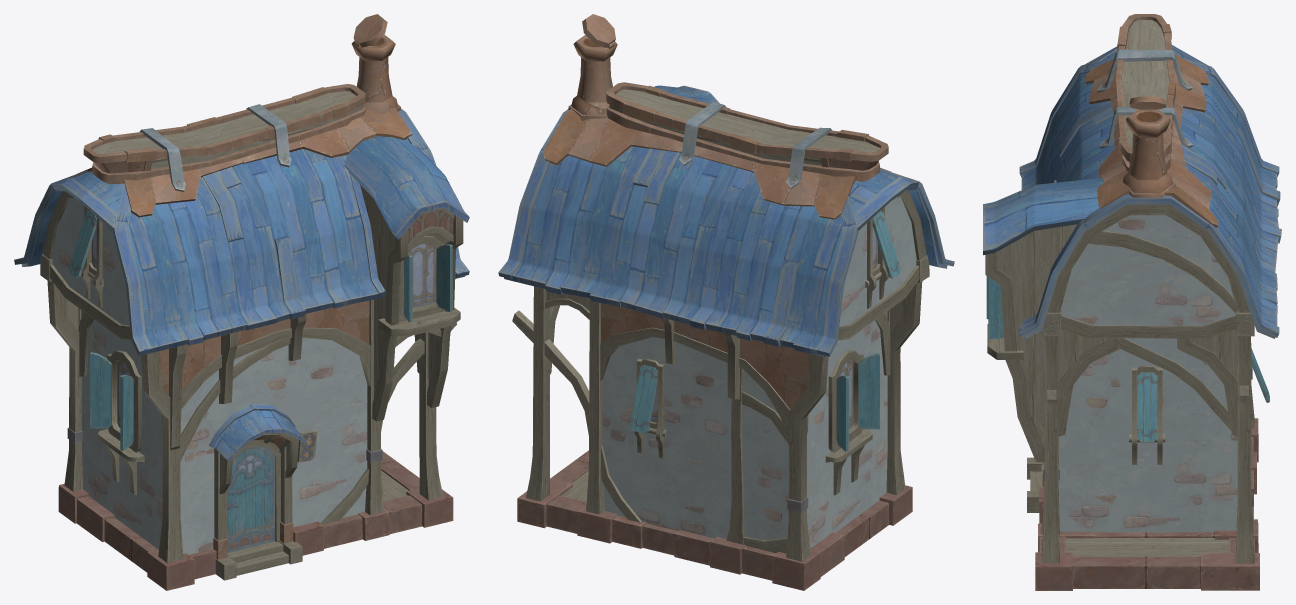
Rendered from Homeworld_Exterior_Fd_Build_YwMinju_01_Lod0.fbx.
The picture shows the model from 3 angles, left to right: view 1: azimuth 30°, elevation 25°; view 2: azimuth 150°, elevation 25°; view 3: azimuth 270°, elevation 25°; orthographic projection. The views are drawn at different scales.
Visible parts, largest first — view 1: Area_Fd_Build_Common_Minju_C_01_Lod0; view 2: Area_Fd_Build_Common_Minju_C_01_Lod0; view 3: Area_Fd_Build_Common_Minju_C_01_Lod0.
Part boxes in pixels (x1,y1,x2,y2): Area_Fd_Build_Common_Minju_C_01_Lod0: (14, 14, 469, 590); Area_Fd_Build_Common_Minju_C_01_Lod0: (498, 14, 954, 590); Area_Fd_Build_Common_Minju_C_01_Lod0: (983, 14, 1281, 590).
Size of what is drawn, in the model's own units: 8.17 by 10.82 by 6.04.
